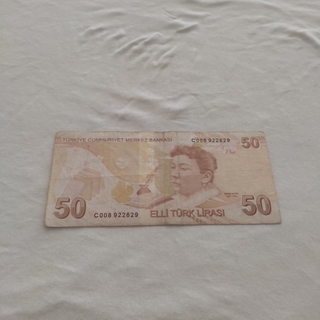50TLBack: (44, 130, 280, 228)
